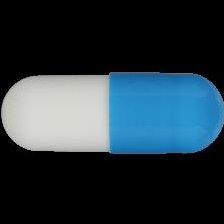42254-037: (0, 0, 224, 224)
